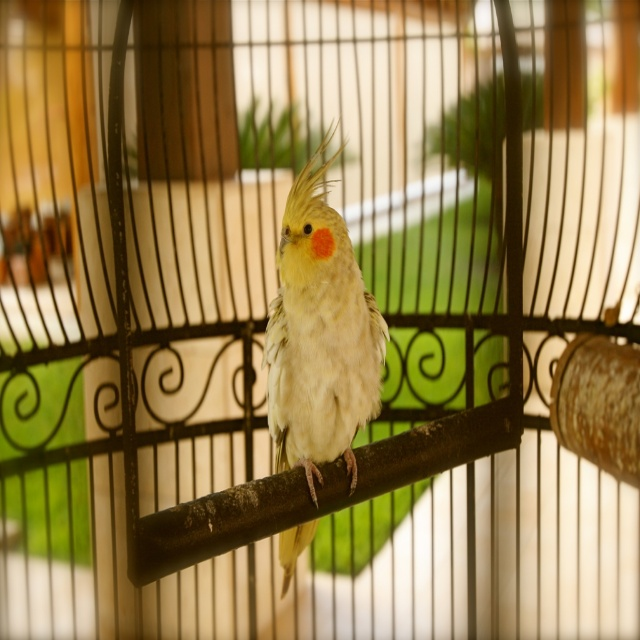Parrot: (261, 115, 390, 601)
